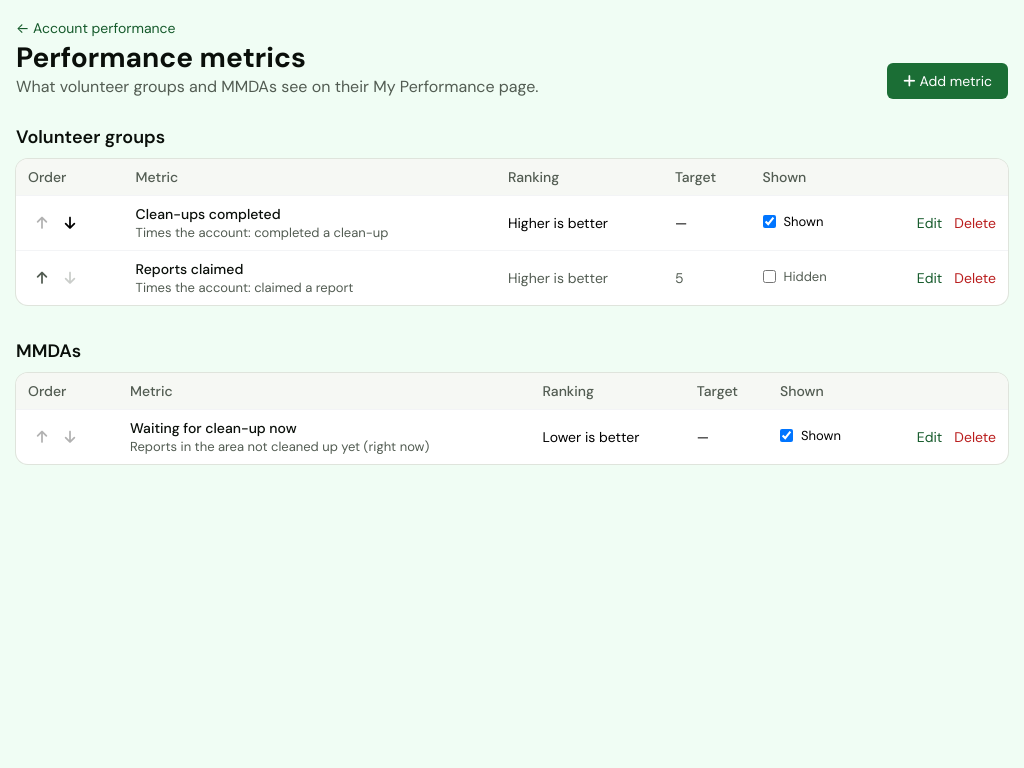
Test case: shows the database’s refusal and keeps the form open
The image size is (1024, 768).
expect the row with test id "row-volunteer-vol_cleanups_completed" is shown: met, box x1=16 y1=196 x2=1008 y2=250
Click the button "Add metric" at (948, 81), box x1=887 y1=63 x2=1008 y2=99
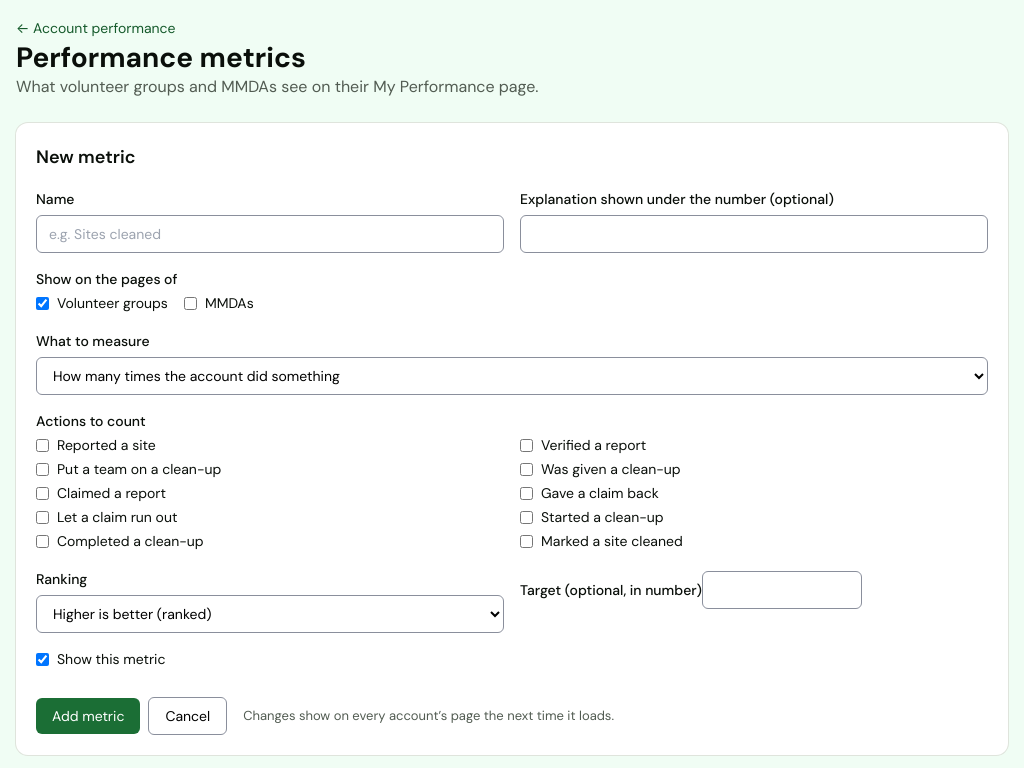
Type "Backlog" into the field labelled "Name" at (270, 234), box x1=36 y1=215 x2=504 y2=253
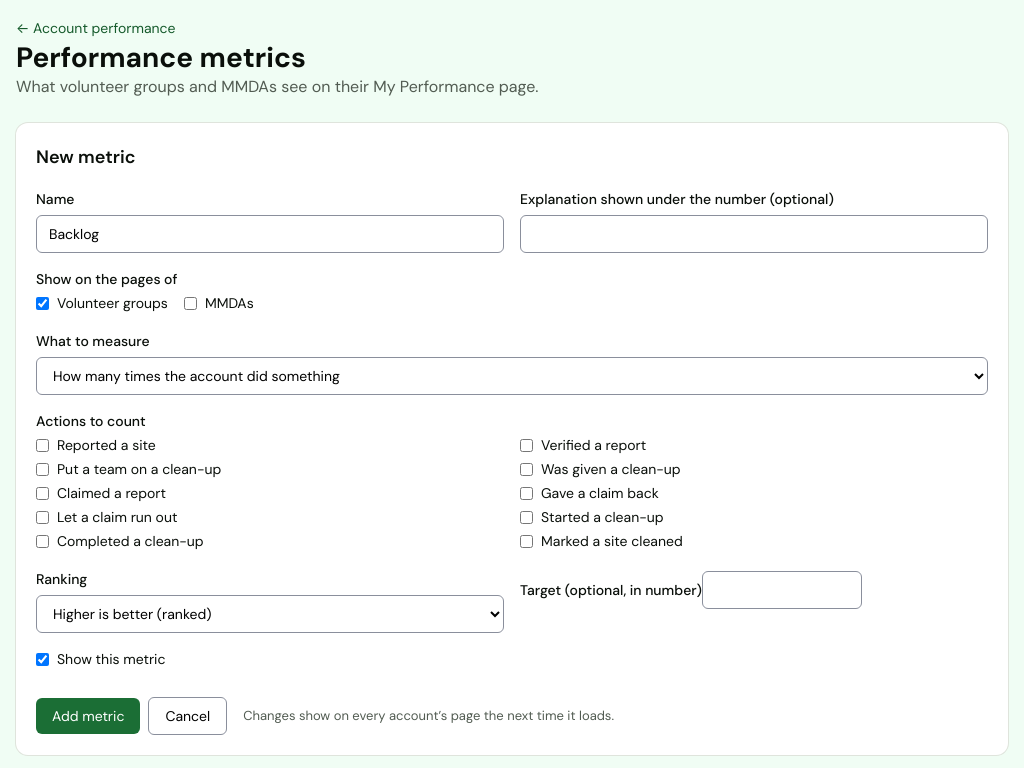
Select "Reports in the area waiting for clean-up right now" in the dropdown labelled "What to measure" at (512, 376), box x1=36 y1=357 x2=988 y2=395
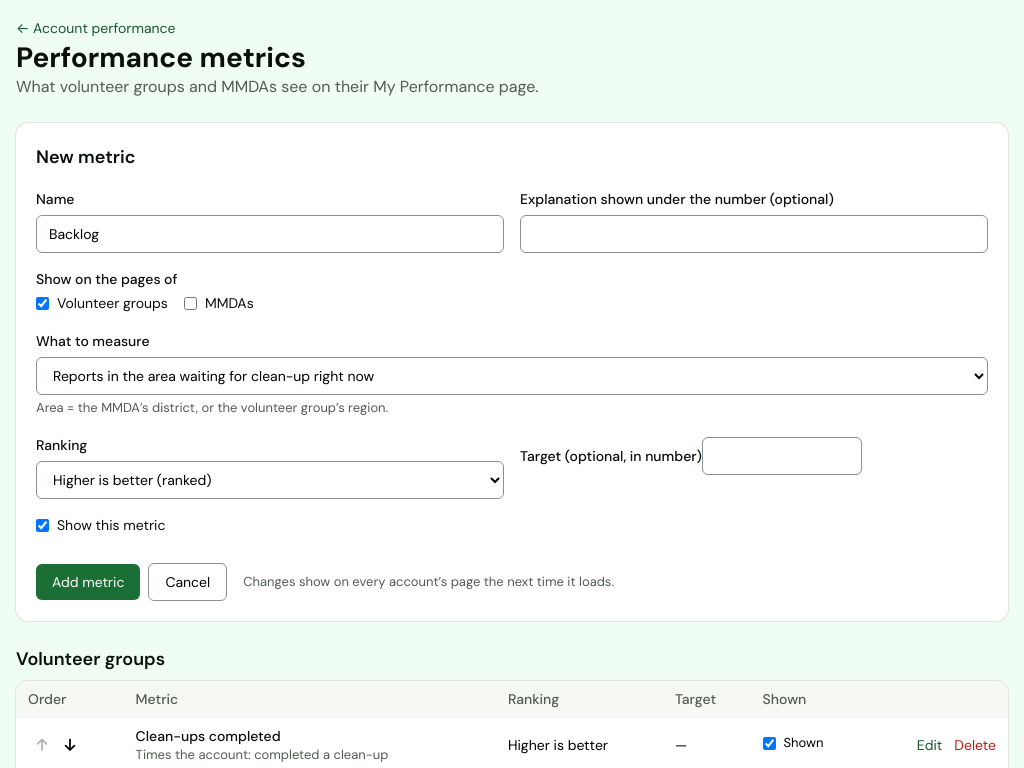
Click the button "Add metric" at (88, 582), box x1=36 y1=564 x2=140 y2=600
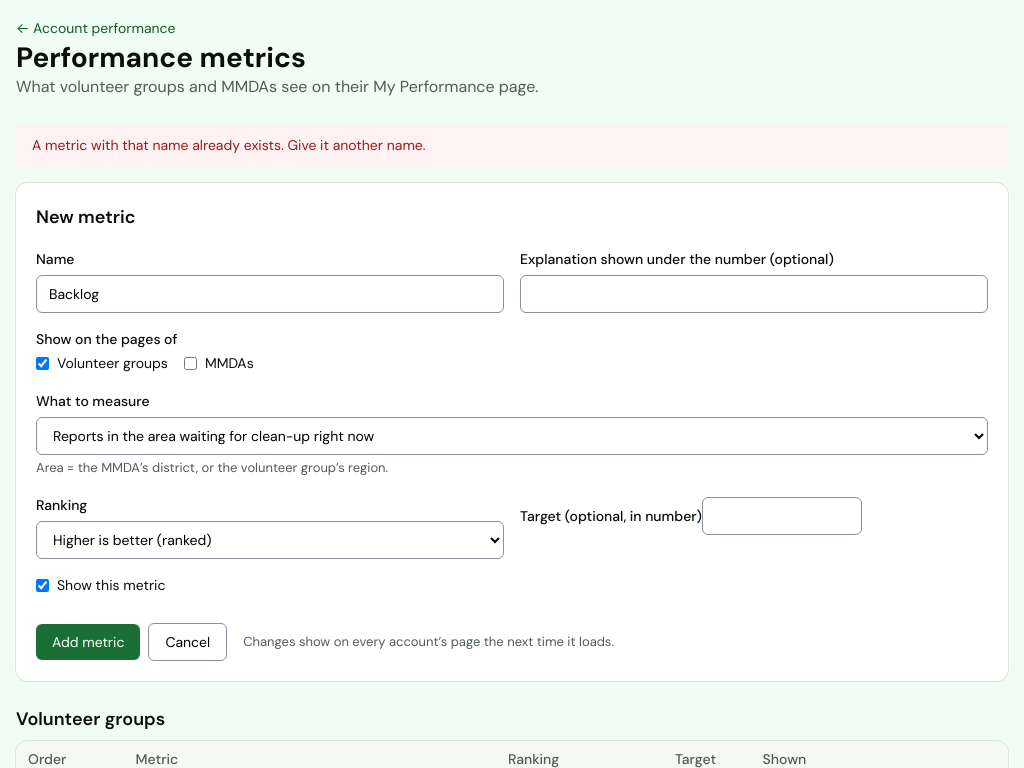
expect the message shows "A metric with that name already exists": met, box x1=32 y1=136 x2=426 y2=154
